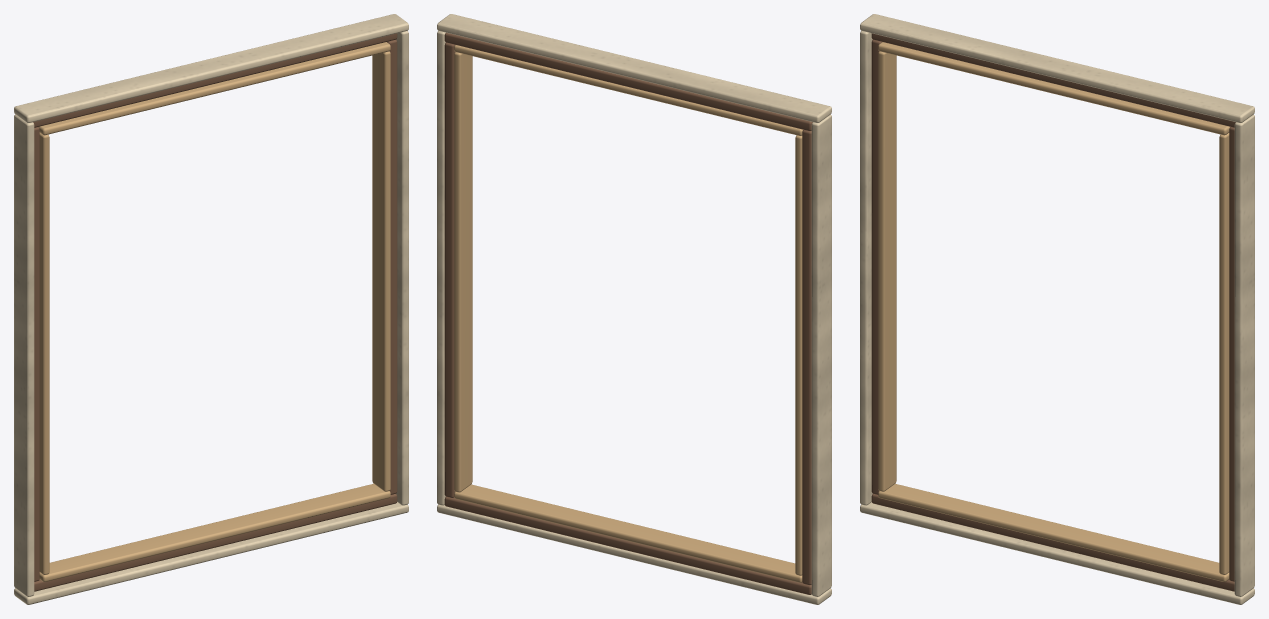
File: sunlit-rebate.glb
The picture shows the model from 3 angles, left to right: view 1: azimuth 30°, elevation 25°; view 2: azimuth 150°, elevation 25°; view 3: azimuth 330°, elevation 25°; orthographic projection.
Visible parts, largest first — view 1: Joinery.025, Joinery.019, Joinery.026, Joinery.016, Joinery.027, Joinery.024, Joinery.017, Joinery.018, Joinery.023, Joinery.020, Joinery.021, Joinery.022; view 2: Joinery.025, Joinery.019, Joinery.026, Joinery.016, Joinery.023, Joinery.021, Joinery.020, Joinery.022, Joinery.027, Joinery.017, Joinery.024, Joinery.018; view 3: Joinery.027, Joinery.017, Joinery.026, Joinery.016, Joinery.025, Joinery.024, Joinery.019, Joinery.018, Joinery.021, Joinery.020, Joinery.023, Joinery.022.
Boxes of the visible parts, left/top/right/bottom form: Joinery.025: left=14, top=114, right=34, bottom=596; Joinery.019: left=372, top=51, right=390, bottom=491; Joinery.026: left=14, top=14, right=408, bottom=122; Joinery.016: left=39, top=483, right=390, bottom=581; Joinery.027: left=396, top=31, right=408, bottom=505; Joinery.024: left=14, top=502, right=408, bottom=604; Joinery.017: left=39, top=133, right=49, bottom=574; Joinery.018: left=39, top=42, right=390, bottom=135; Joinery.023: left=387, top=39, right=397, bottom=494; Joinery.020: left=34, top=493, right=397, bottom=591; Joinery.021: left=34, top=127, right=39, bottom=581; Joinery.022: left=33, top=33, right=397, bottom=127; Joinery.025: left=811, top=114, right=831, bottom=596; Joinery.019: left=454, top=52, right=472, bottom=492; Joinery.026: left=437, top=14, right=831, bottom=122; Joinery.016: left=454, top=484, right=802, bottom=582; Joinery.023: left=444, top=42, right=455, bottom=497; Joinery.021: left=802, top=130, right=811, bottom=584; Joinery.020: left=444, top=496, right=811, bottom=594; Joinery.022: left=444, top=32, right=812, bottom=130; Joinery.027: left=437, top=31, right=445, bottom=505; Joinery.017: left=795, top=135, right=802, bottom=575; Joinery.024: left=437, top=504, right=831, bottom=604; Joinery.018: left=454, top=45, right=803, bottom=135; Joinery.027: left=1234, top=114, right=1254, bottom=596; Joinery.017: left=878, top=51, right=896, bottom=491; Joinery.026: left=860, top=14, right=1254, bottom=122; Joinery.016: left=878, top=483, right=1229, bottom=581; Joinery.025: left=860, top=31, right=872, bottom=505; Joinery.024: left=860, top=502, right=1254, bottom=604; Joinery.019: left=1219, top=133, right=1229, bottom=574; Joinery.018: left=878, top=42, right=1229, bottom=135; Joinery.021: left=871, top=39, right=881, bottom=494; Joinery.020: left=871, top=493, right=1234, bottom=591; Joinery.023: left=1229, top=127, right=1234, bottom=581; Joinery.022: left=871, top=33, right=1235, bottom=127.
Bounding box in the file's own units: 2.23 × 2.73 × 0.145.
3 materials, 1 textured.
